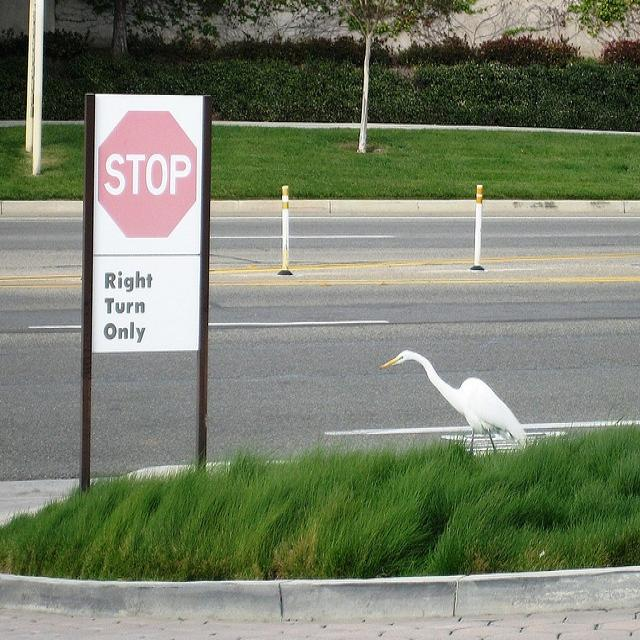pole: (72, 91, 94, 486), (196, 92, 214, 474)
warning_column: (470, 180, 487, 265), (278, 180, 293, 271)
